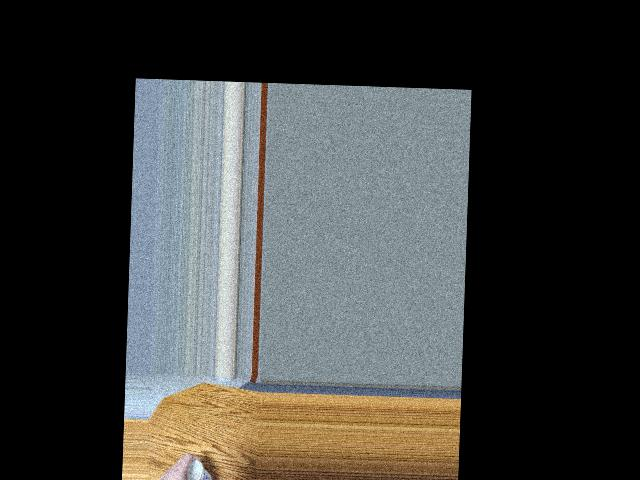cotage: (187, 453, 213, 480)
